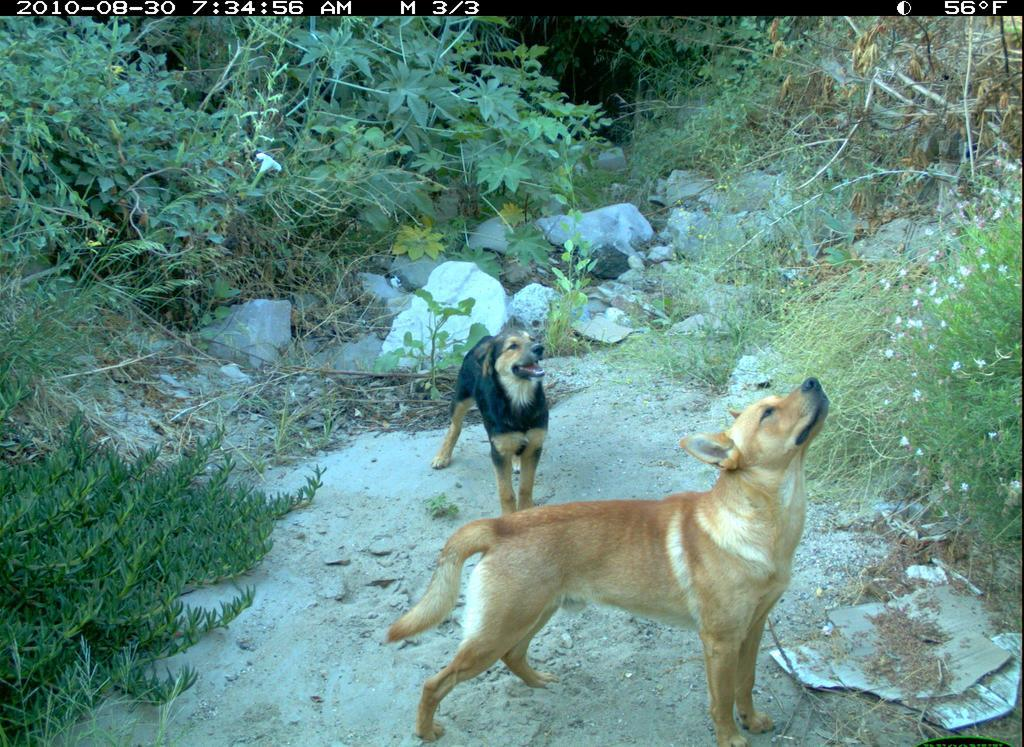dog: (400, 361, 835, 657), (401, 315, 579, 538)
